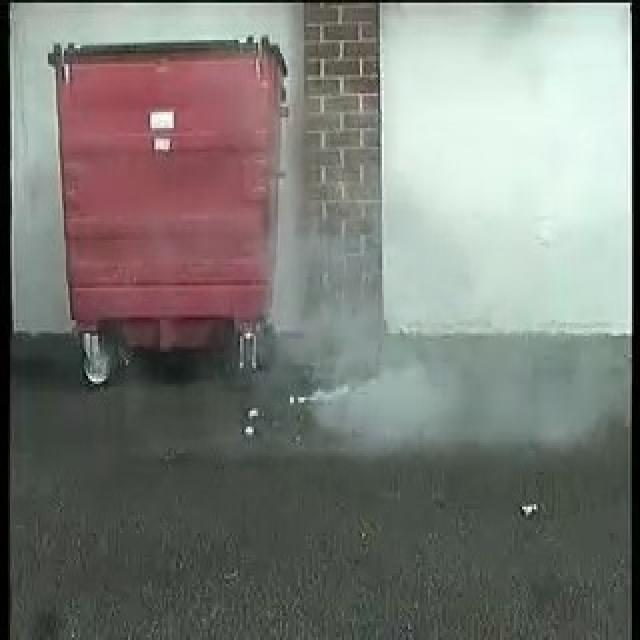smoke: (280, 216, 432, 431)
